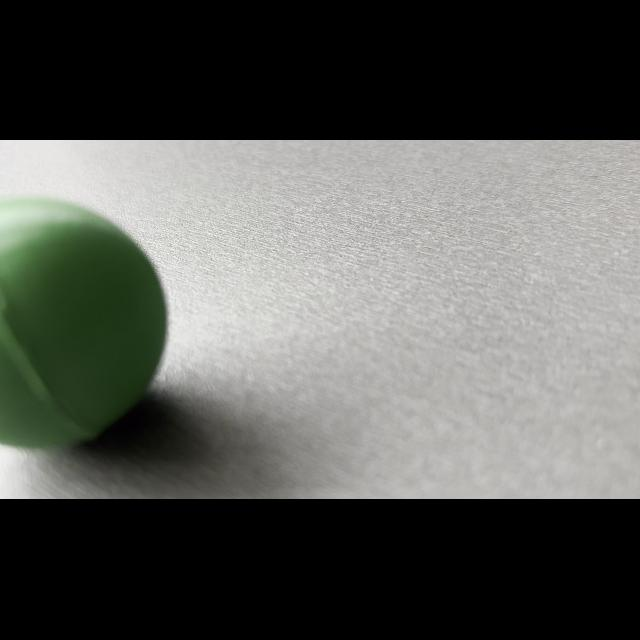objects: (1, 181, 178, 463)
